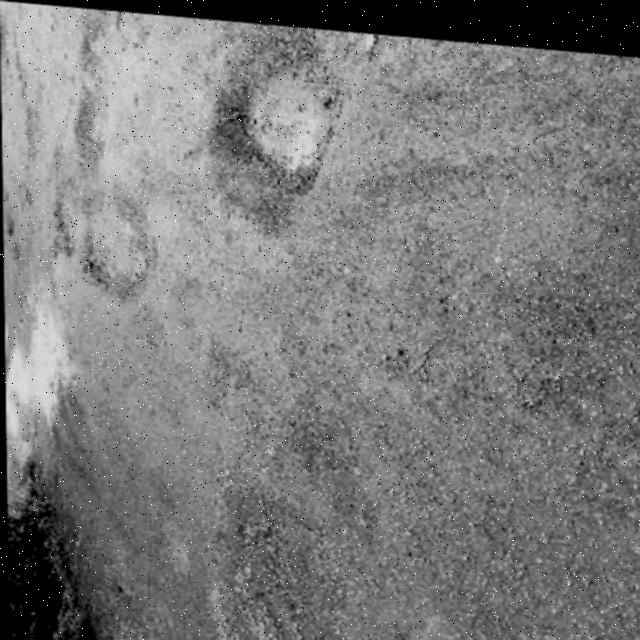Pothole: (204, 14, 346, 226), (201, 475, 347, 640), (73, 177, 150, 306), (73, 5, 156, 81), (69, 87, 108, 167)
